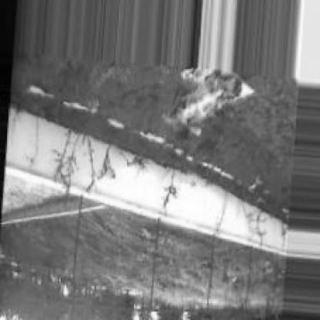Fire: (161, 66, 253, 136)
